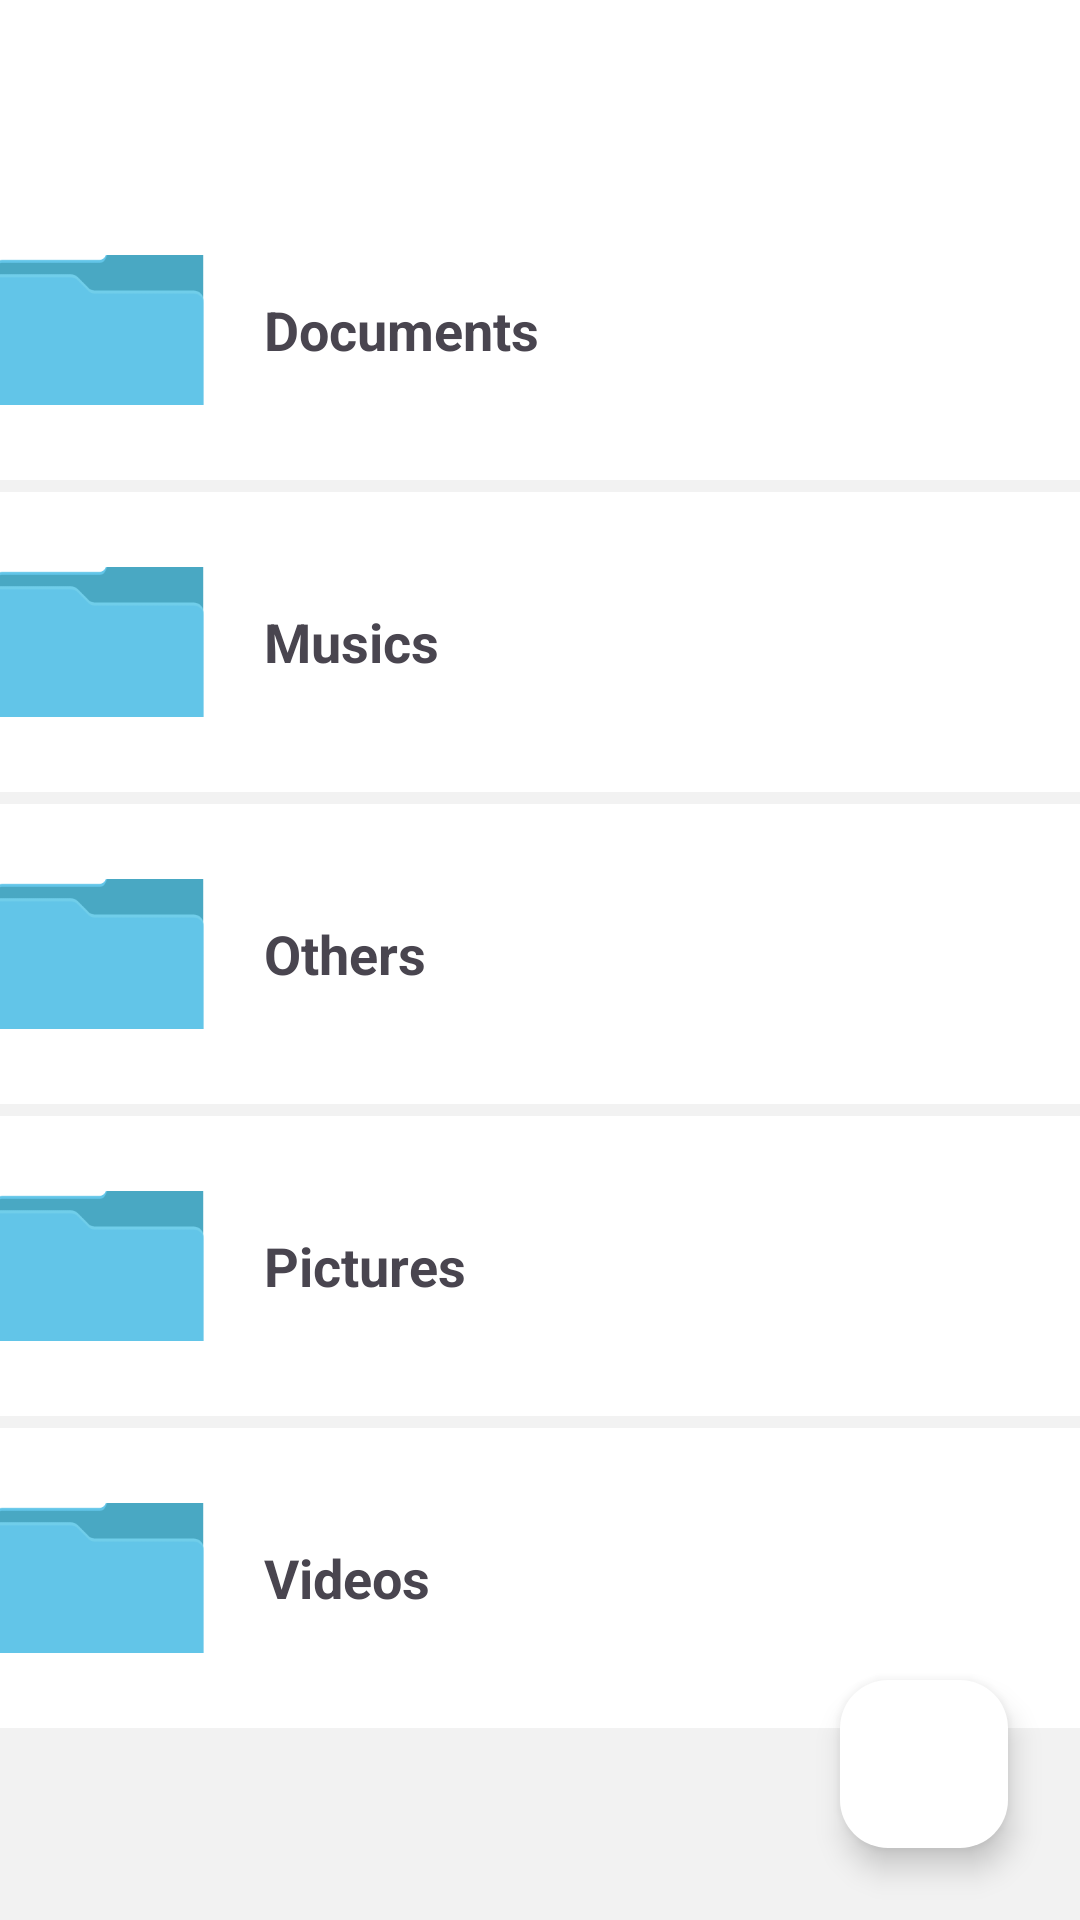

Screen size 1080x1920. Icon name, then its center in pixels as point (x, y):
folder: point (102, 330), point (102, 642), point (102, 954), point (102, 1266), point (102, 1578)
